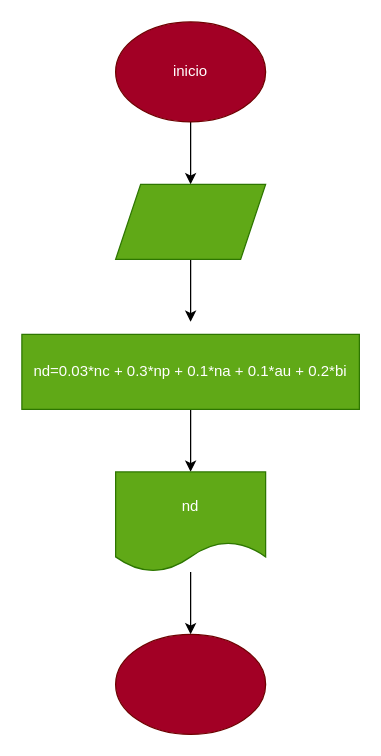
This 381x756 diagram has some shape labels left out. Here are the shapes that lost their labels. From the top down, the centre of each, then its label:
point (190, 221): nc,cp,na,au,bi
point (190, 683): fin
